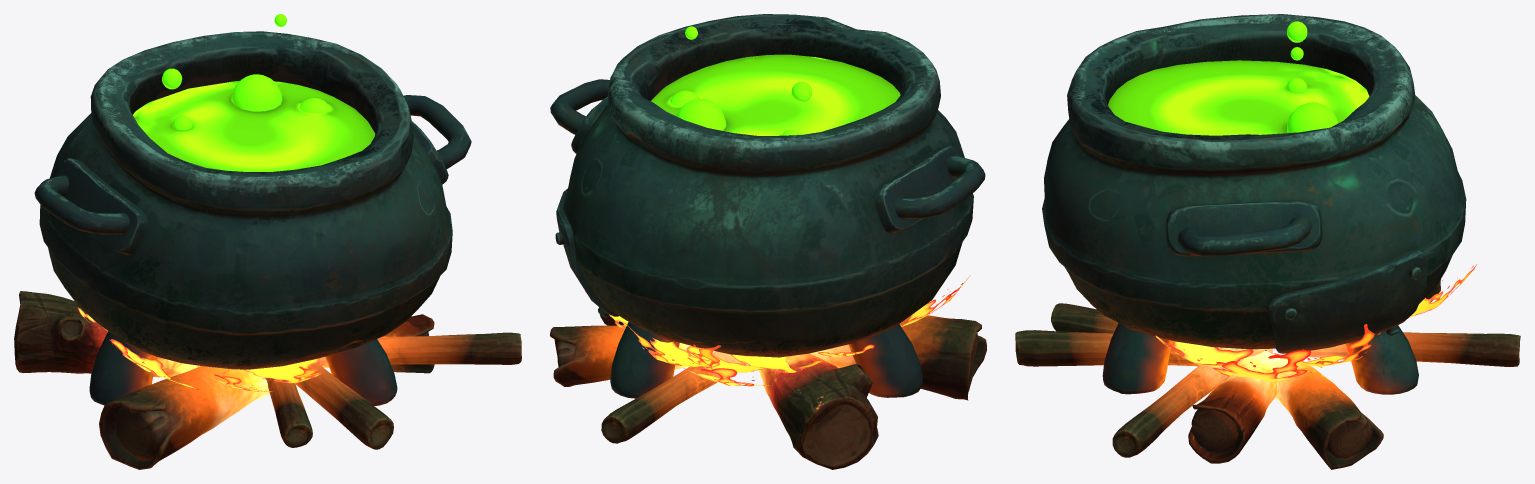
File: cauldron_stylized.fbx
The picture shows the model from 3 angles, left to right: view 1: azimuth 30°, elevation 25°; view 2: azimuth 150°, elevation 25°; view 3: azimuth 270°, elevation 25°; orthographic projection. The views are drawn at different scales.
Visible parts, largest first — view 1: Cauldron_Body_low:ZBrush_defualt_group, Cauldron_FloatingPieces_low:Cauldron_FloatingPieces_low:poly, peeledWood_low, WoodLogA_low:ZBrush_defualt_group, branch_low:ZBrush_defualt_group, ZBrush_defualt_group1, ZBrush_defualt_group2, peeledWood_low2, pPlane12, pPlane1; view 2: Cauldron_Body_low:ZBrush_defualt_group, Cauldron_FloatingPieces_low:Cauldron_FloatingPieces_low:poly, WoodLogA_low:ZBrush_defualt_group, peeledWood_low, peeledWood_low1, ZBrush_defualt_group, pPlane15, pPlane9, pPlane10, FireSprites:pPlane1; view 3: Cauldron_Body_low:ZBrush_defualt_group, Cauldron_FloatingPieces_low:Cauldron_FloatingPieces_low:poly, peeledWood_low1, peeledWood_low2, ZBrush_defualt_group, branch_low:ZBrush_defualt_group, ZBrush_defualt_group1, ZBrush_defualt_group2, FireSprites:pPlane3, pPlane13, FireSprites:pPlane9, pPlane15.
Part boxes in pixels (x1,y1,x2,y2): Cauldron_Body_low:ZBrush_defualt_group: [39, 31, 452, 369]; Cauldron_FloatingPieces_low:Cauldron_FloatingPieces_low:poly: [34, 14, 471, 405]; peeledWood_low: [99, 366, 269, 469]; WoodLogA_low:ZBrush_defualt_group: [14, 291, 200, 377]; branch_low:ZBrush_defualt_group: [319, 332, 521, 365]; ZBrush_defualt_group1: [295, 364, 393, 449]; ZBrush_defualt_group2: [265, 378, 312, 447]; peeledWood_low2: [321, 314, 434, 373]; pPlane12: [244, 358, 323, 383]; pPlane1: [109, 339, 199, 389]; Cauldron_Body_low:ZBrush_defualt_group: [562, 14, 973, 357]; Cauldron_FloatingPieces_low:Cauldron_FloatingPieces_low:poly: [550, 26, 985, 398]; WoodLogA_low:ZBrush_defualt_group: [758, 353, 878, 469]; peeledWood_low: [810, 315, 986, 400]; peeledWood_low1: [550, 325, 696, 386]; ZBrush_defualt_group: [601, 351, 747, 443]; pPlane15: [624, 322, 720, 367]; pPlane9: [686, 344, 765, 372]; pPlane10: [730, 353, 829, 373]; FireSprites:pPlane1: [683, 363, 772, 386]; Cauldron_Body_low:ZBrush_defualt_group: [1042, 14, 1466, 349]; Cauldron_FloatingPieces_low:Cauldron_FloatingPieces_low:poly: [1102, 21, 1427, 394]; peeledWood_low1: [1274, 358, 1383, 469]; peeledWood_low2: [1188, 350, 1279, 463]; ZBrush_defualt_group: [1308, 332, 1520, 366]; branch_low:ZBrush_defualt_group: [1112, 347, 1241, 457]; ZBrush_defualt_group1: [1015, 330, 1272, 366]; ZBrush_defualt_group2: [1051, 303, 1118, 333]; FireSprites:pPlane3: [1212, 350, 1321, 381]; pPlane13: [1155, 335, 1253, 366]; FireSprites:pPlane9: [1273, 324, 1380, 366]; pPlane15: [1409, 264, 1476, 317].
Bounding box in the file's own units: 99.9 × 83.57 × 104.
Materials: 3 (3 with a texture image).
